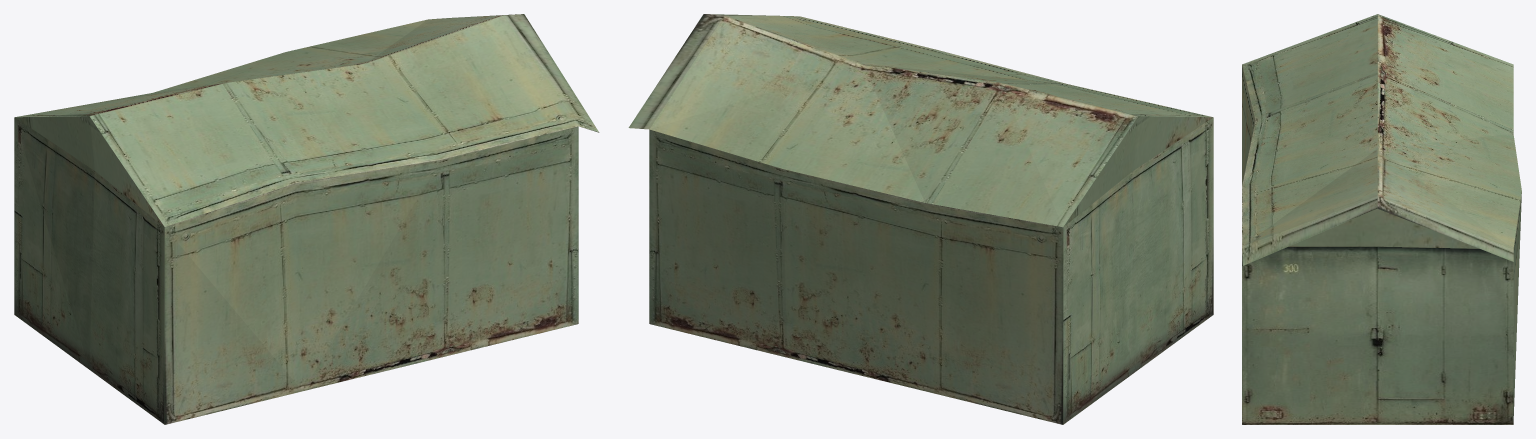
Rendered from garage_tin_4.glb.
The picture shows the model from 3 angles, left to right: view 1: azimuth 30°, elevation 25°; view 2: azimuth 150°, elevation 25°; view 3: azimuth 270°, elevation 25°; orthographic projection. The views are drawn at different scales.
Parts seen in each view (by area): view 1: garage_tin_4; view 2: garage_tin_4; view 3: garage_tin_4.
Boxes of the visible parts, x1,y1,x2,y2 form: garage_tin_4: [14, 14, 599, 424]; garage_tin_4: [628, 14, 1213, 424]; garage_tin_4: [1242, 14, 1521, 424].
Size of the model in its own units: 4.41 by 2.46 by 2.73.
Materials: 1 (1 with a texture image).
